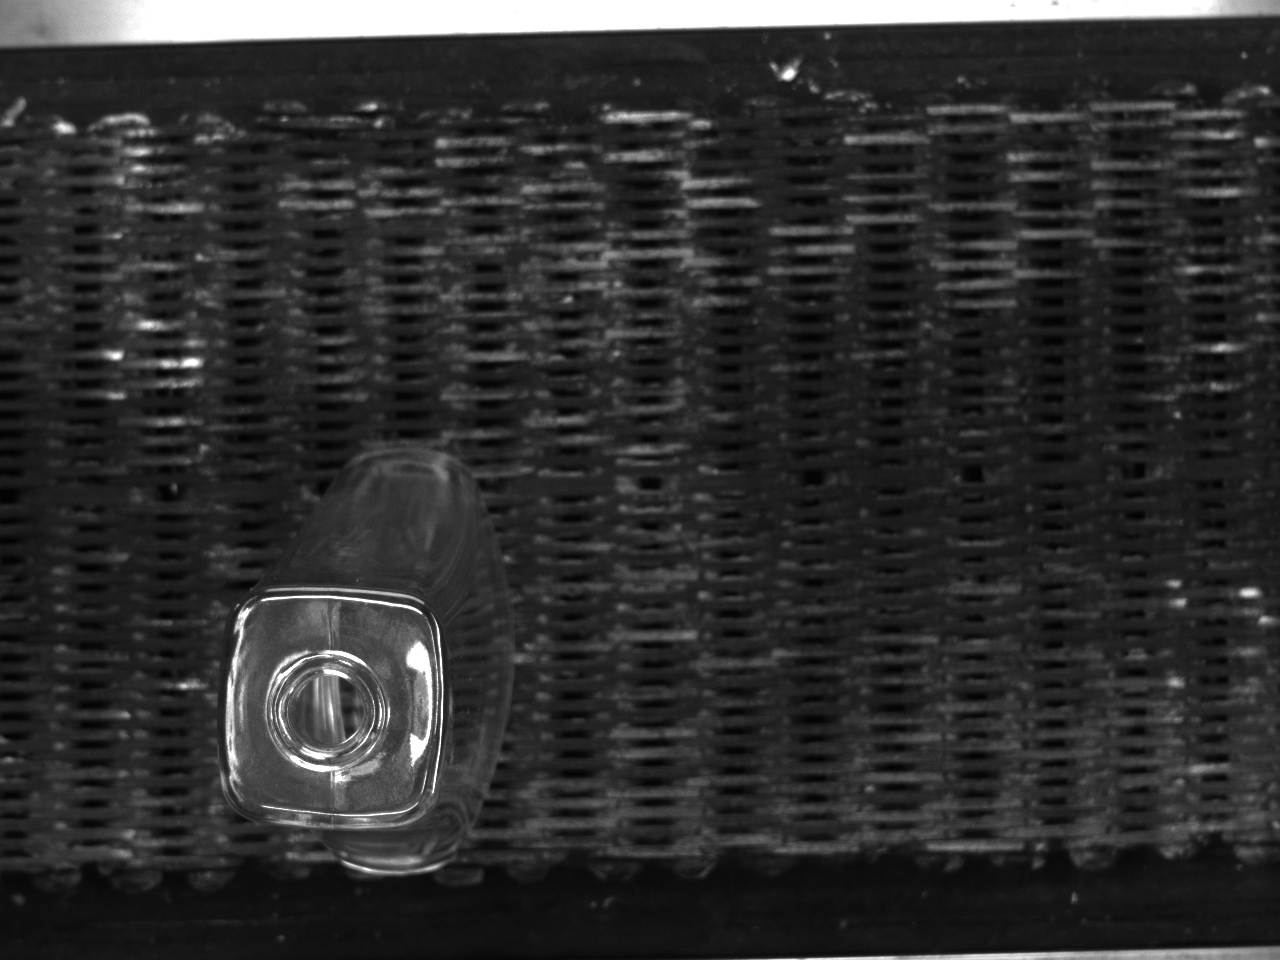bottleneck: (265, 649, 391, 771)
